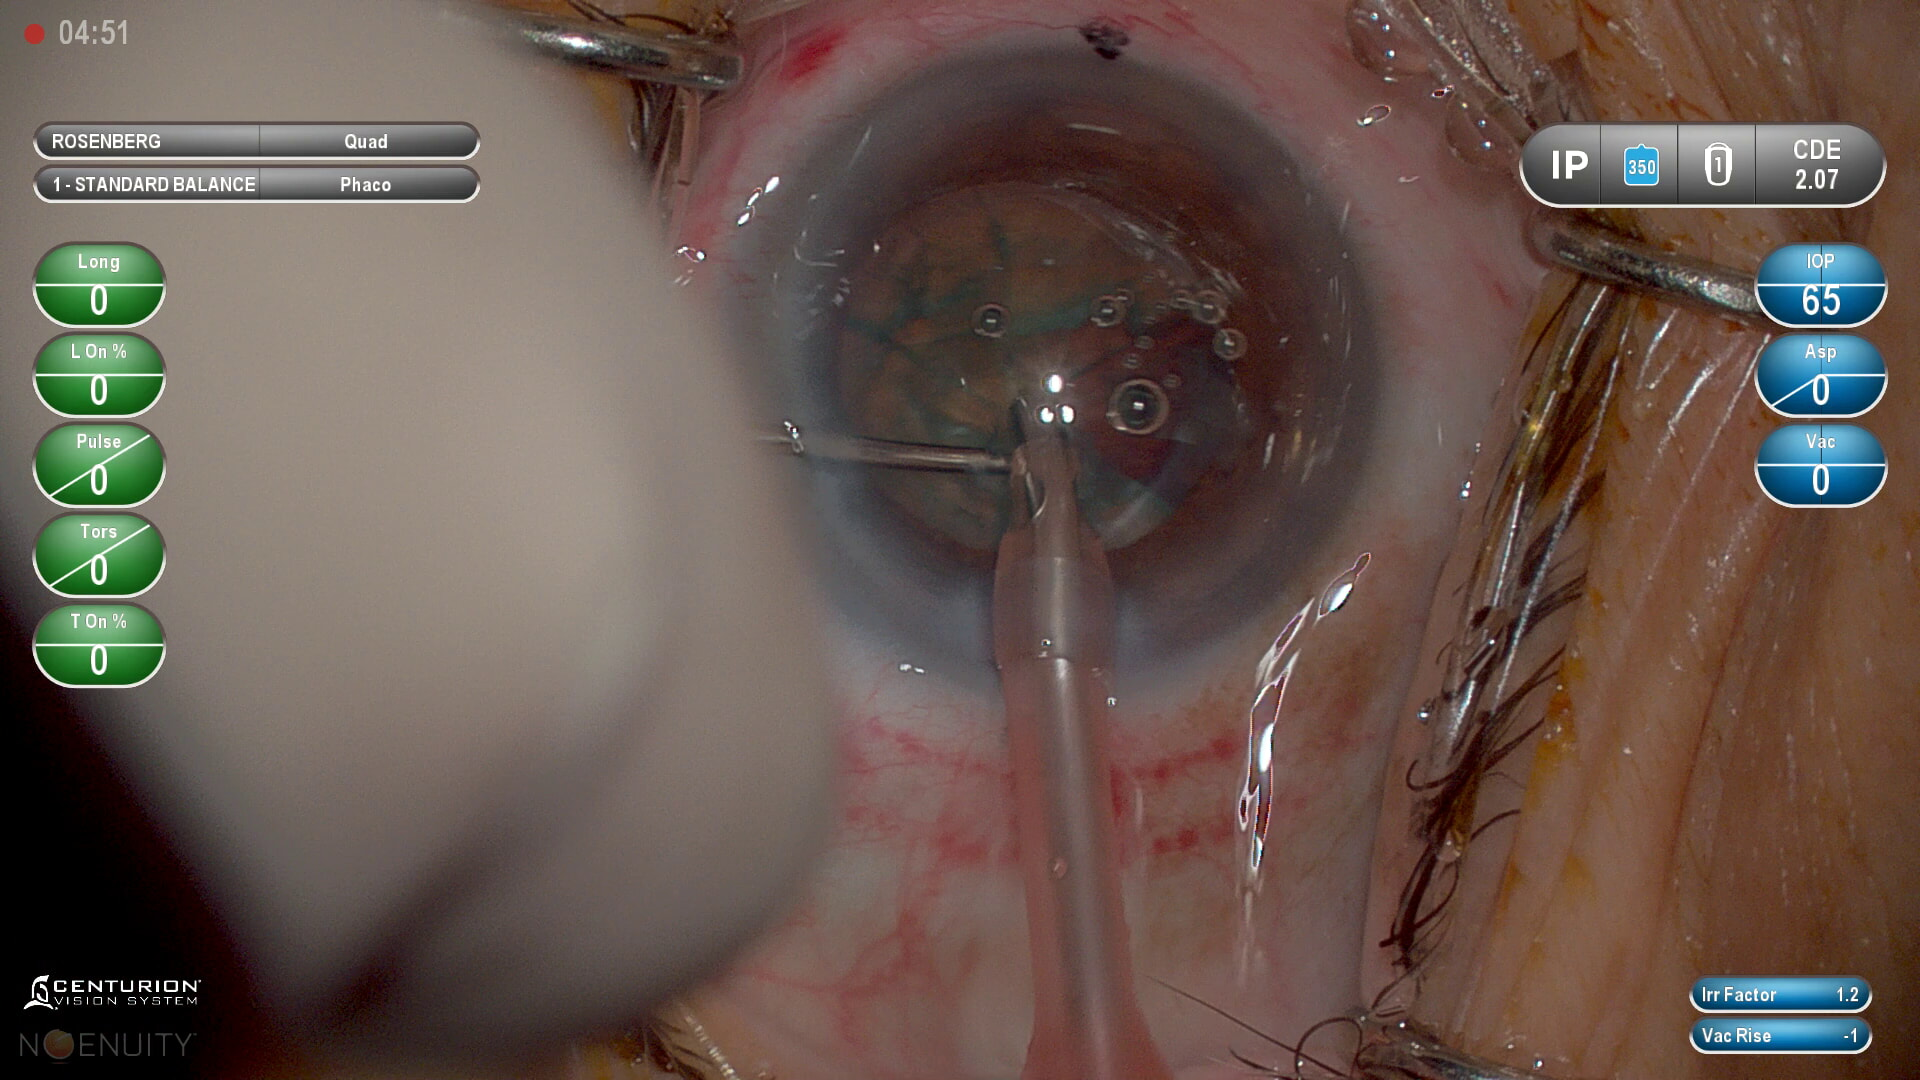iris: (777, 72, 1359, 658)
pupil: (823, 168, 1254, 573)
